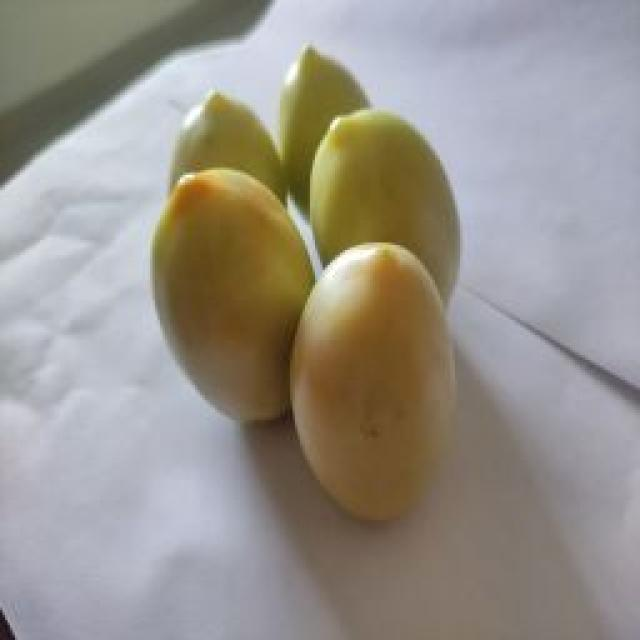tomato: (290, 239, 456, 523), (148, 165, 320, 426), (305, 110, 465, 308), (277, 42, 373, 229), (167, 87, 285, 205)
